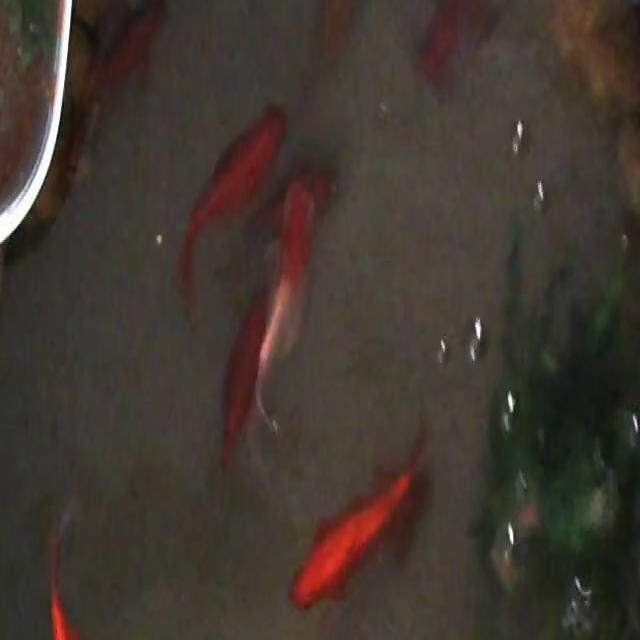fish: (231, 163, 335, 459), (287, 420, 433, 612), (173, 103, 290, 308), (76, 0, 165, 155), (218, 275, 278, 472), (413, 0, 500, 98), (46, 510, 108, 640), (315, 0, 363, 71)
